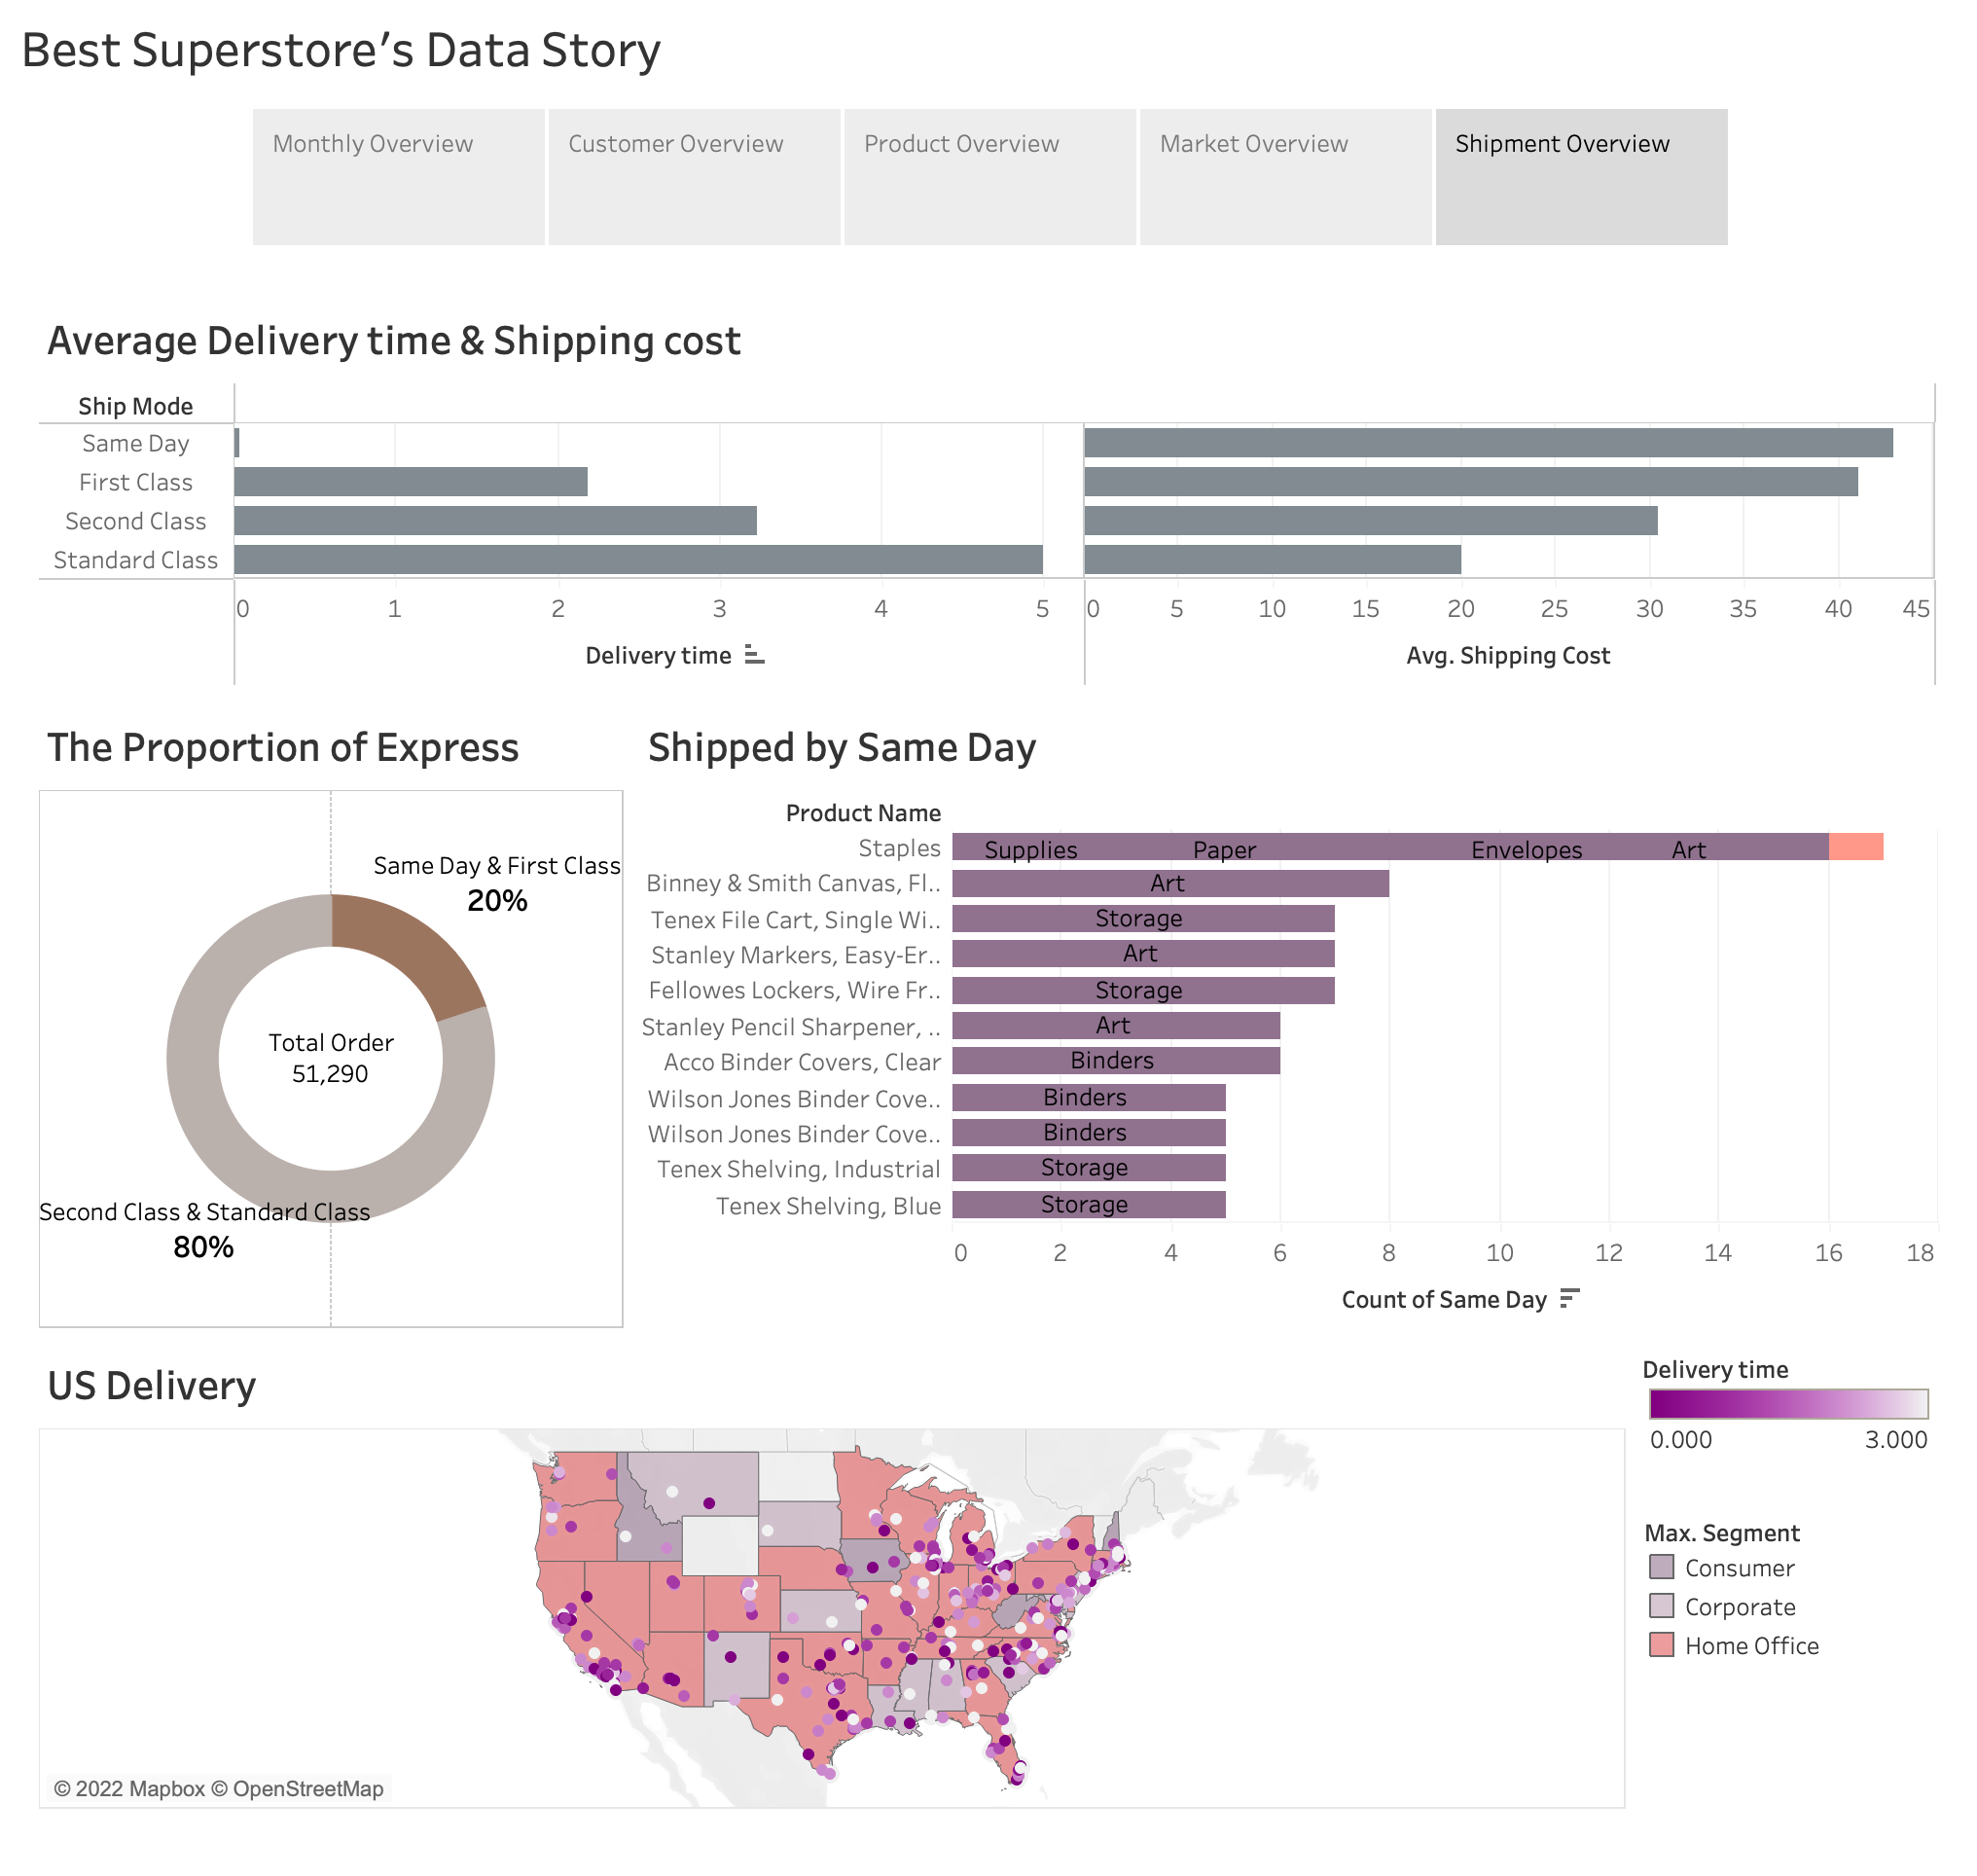

The page's visual inventory and layout, read from the dashboard file:
{"tool":"tableau","page":{"name":"Shipment Overview","canvas":[1000,800],"ordinal":4},"visuals":[{"type":"worksheet","title":"Average Delivery time & Shipping cost","mark":"Automatic","rows":["Ship Mode"],"cols":["Calculation_1781173716193652792","Shipping Cost"],"box":[8,8,984,209]},{"type":"worksheet","title":"The Proportion of Express","mark":"Pie","cols":["Calculation_1781173718378786900","Calculation_1781173718378786900"],"box":[8,217,309,328]},{"type":"worksheet","title":"Shipped by Same Day","mark":"Automatic","rows":["Product Name"],"cols":["Sheet1_4B4469CC174E44DFA76E20DA83E78CA8"],"box":[317,217,675,328]},{"type":"worksheet","title":"US Delivery","mark":"Automatic","box":[8,545,824,247]},{"type":"legend","title":"US Delivery","param":"[federated.1whlfkm0uswxrg16ctf560u8id44].[avg:Calculation_1781173716193652792:qk","box":[832,545,160,86]},{"type":"legend","title":"US Delivery","param":"[federated.1whlfkm0uswxrg16ctf560u8id44].[max:Segment:nk]","box":[832,631,160,161]}]}

Visuals, with their boxes on the page's 1000x800 design canvas (x1, y1, x2, y2). These are canvas units, not pixel positions in the 1977x1876 screenshot, which may show the page scaled, cropped or inside an application window:
"Average Delivery time & Shipping cost" worksheet: left=8, top=8, right=992, bottom=217
"The Proportion of Express" worksheet (Pie marks): left=8, top=217, right=317, bottom=545
"Shipped by Same Day" worksheet: left=317, top=217, right=992, bottom=545
"US Delivery" worksheet: left=8, top=545, right=832, bottom=792
"US Delivery" legend: left=832, top=545, right=992, bottom=631
"US Delivery" legend: left=832, top=631, right=992, bottom=792
